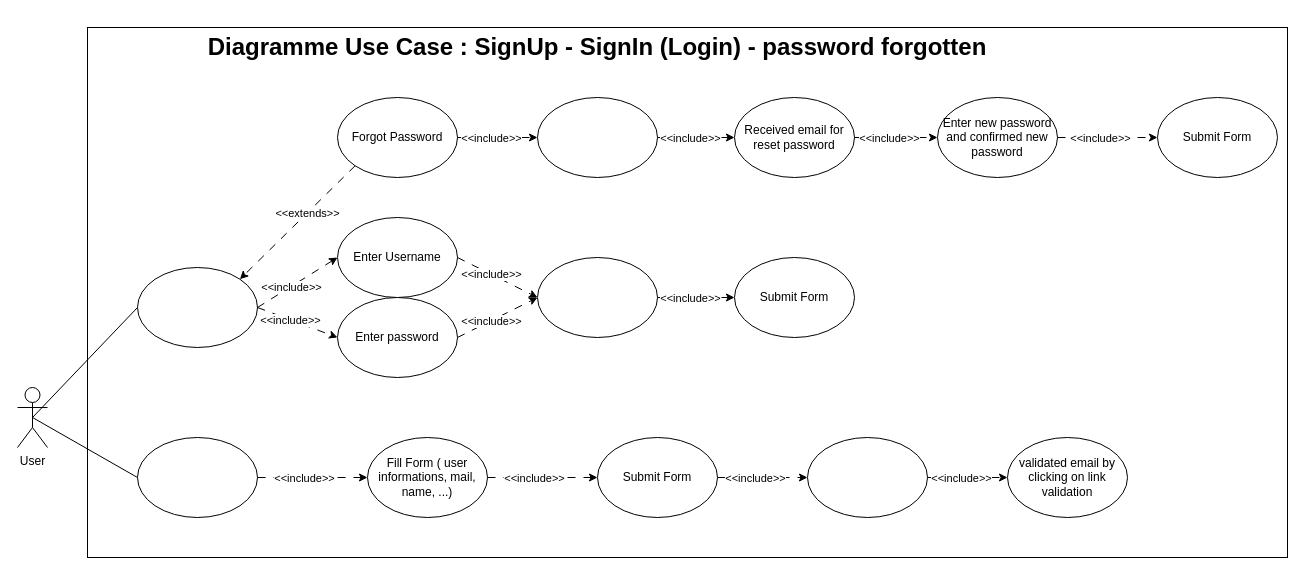
Image size: 1305x575. Some labels were removed from this diagram. The shapes that lost their labels are listed below. From the top down, each one's centre as x and y in pixels, then its label:
At (x=597, y=137): "Enter email".
At (x=197, y=307): "SignIn".
At (x=597, y=297): "Captcha".
At (x=197, y=477): "SignUp".
At (x=867, y=477): "Received validation subscription email".
